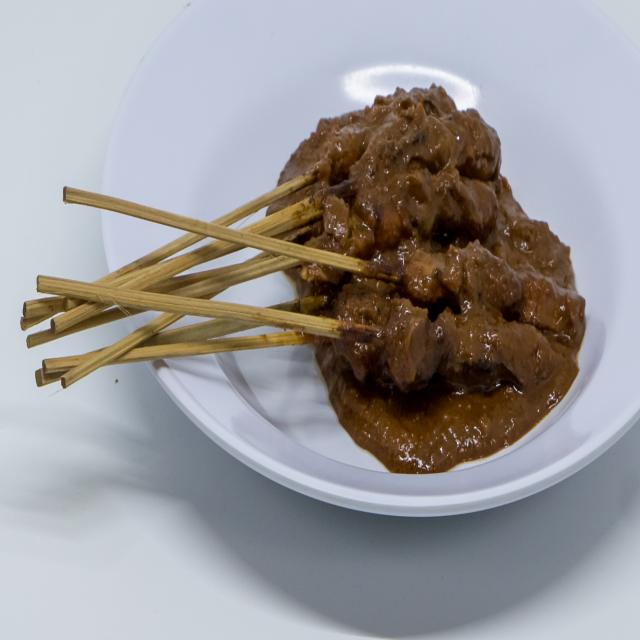Sate-Ayam: (249, 72, 596, 452)
